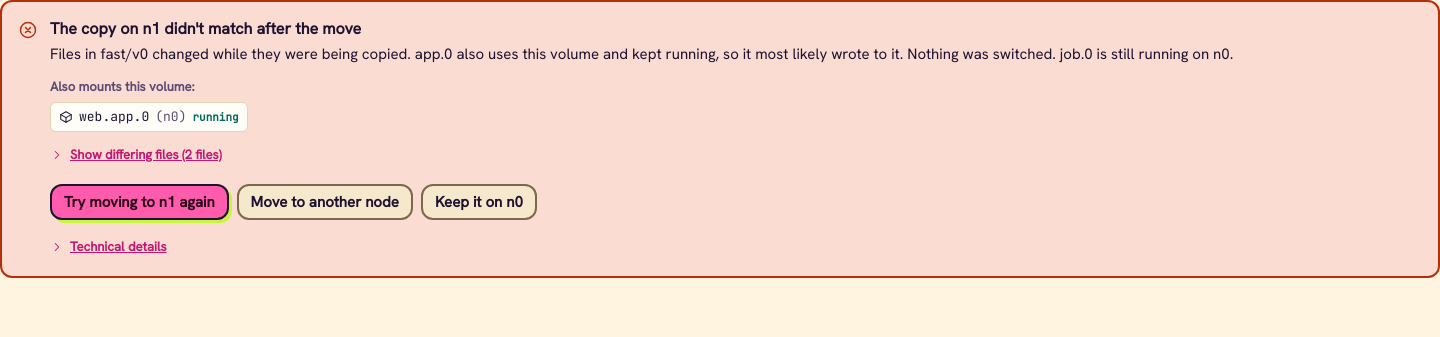
Test case: MigrationProblem › keeps the raw technical details collapsed until toggled
Check: the text "verification failed: fast/v0" is not shown
Click the button "Technical details" at (108, 247), box x1=50 y1=236 x2=166 y2=258
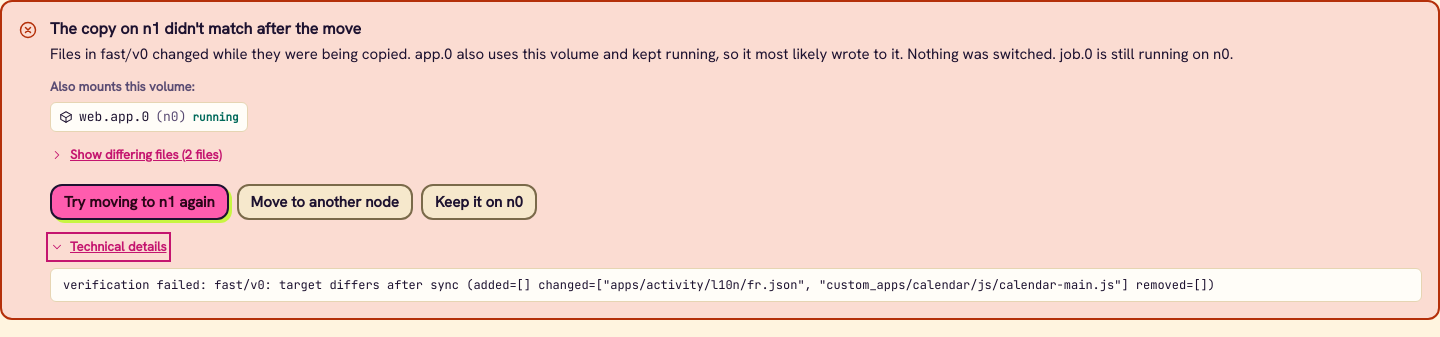
Check: the text "verification failed: fast/v0" is shown, box x1=63 y1=277 x2=1215 y2=293
